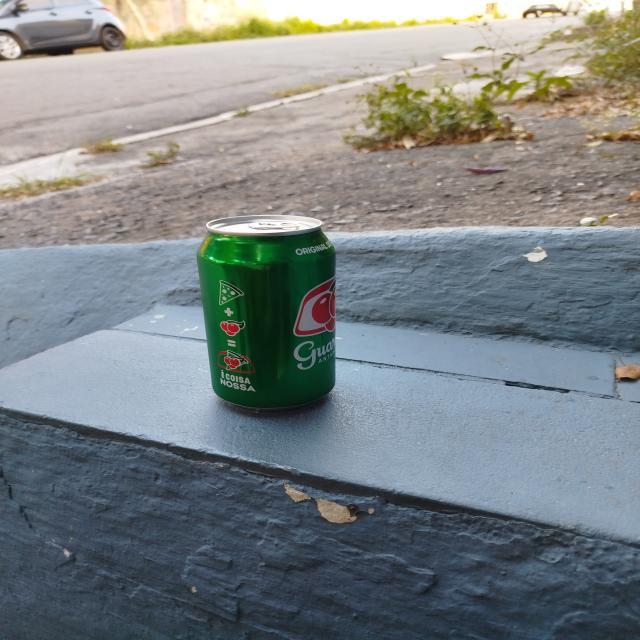Guarana: (193, 221, 346, 418)
